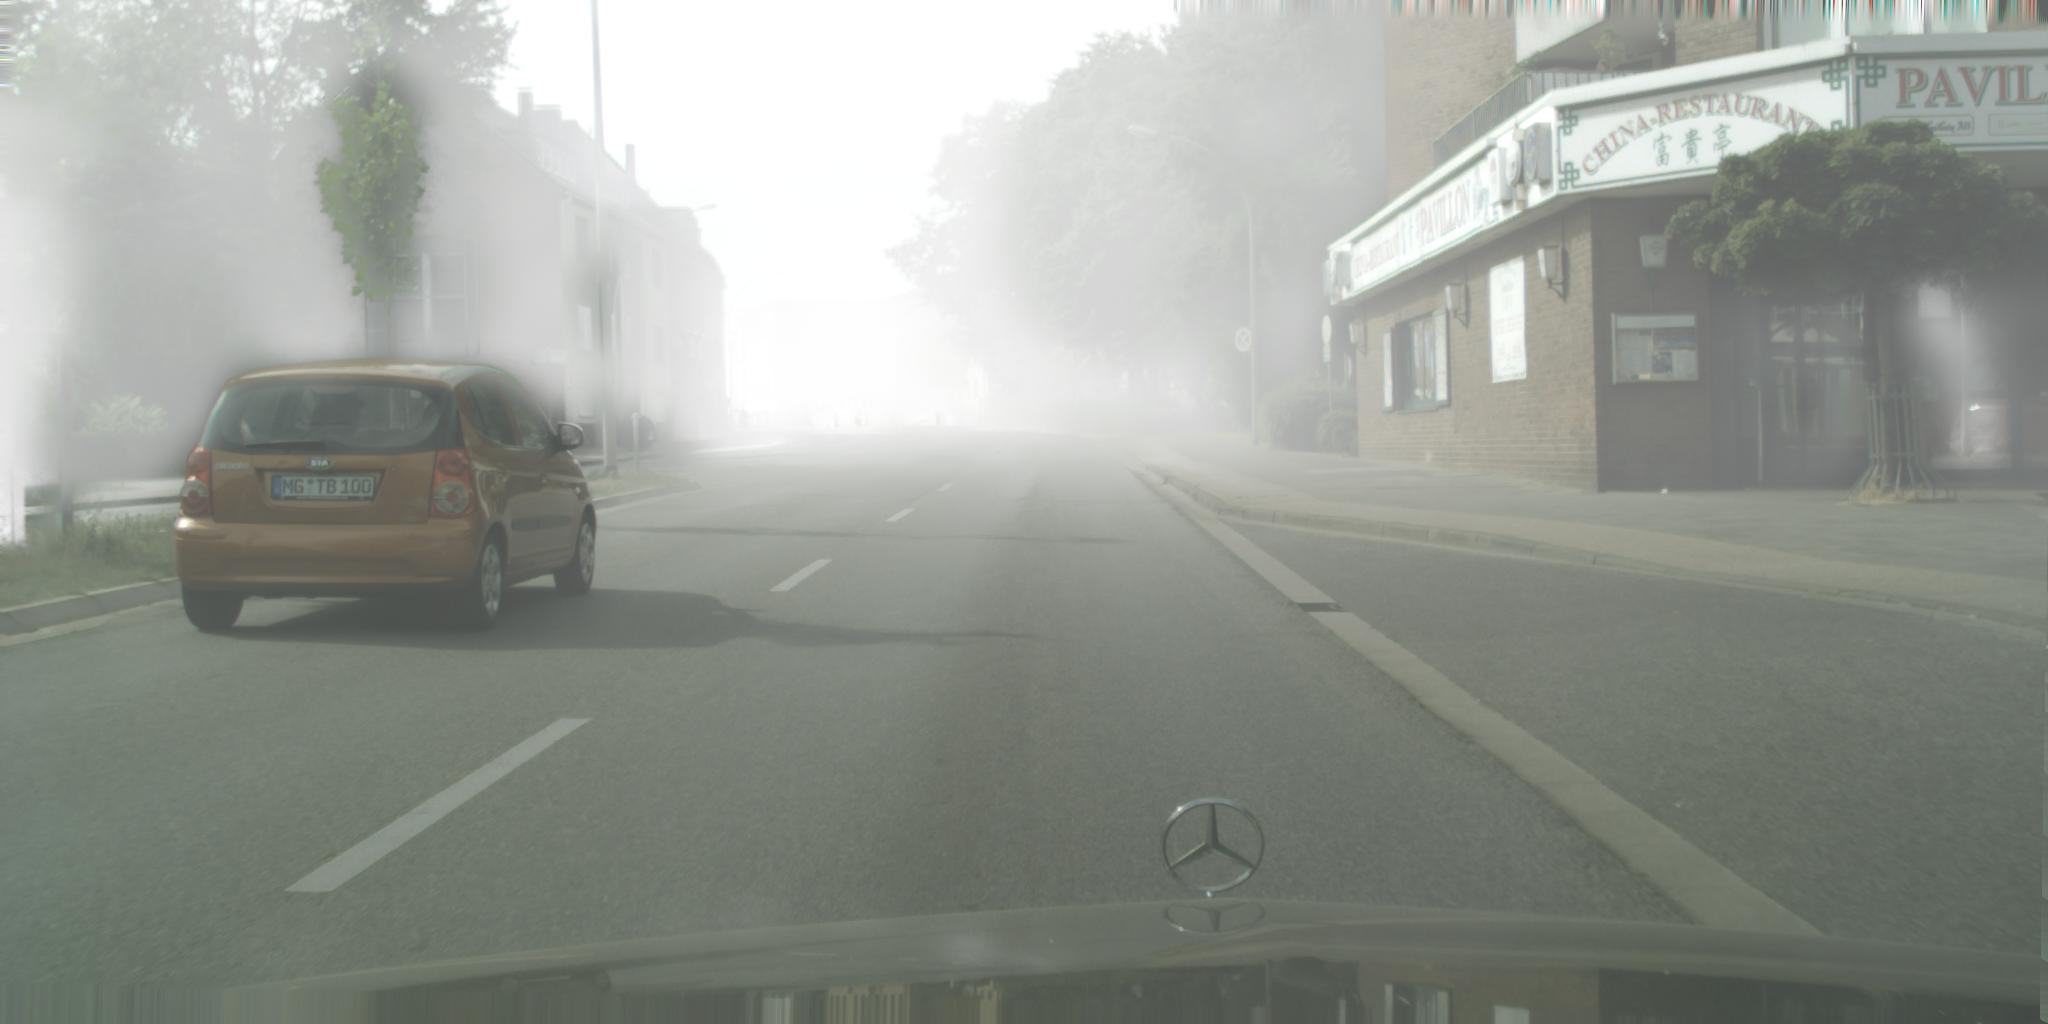car: (174, 358, 598, 633)
